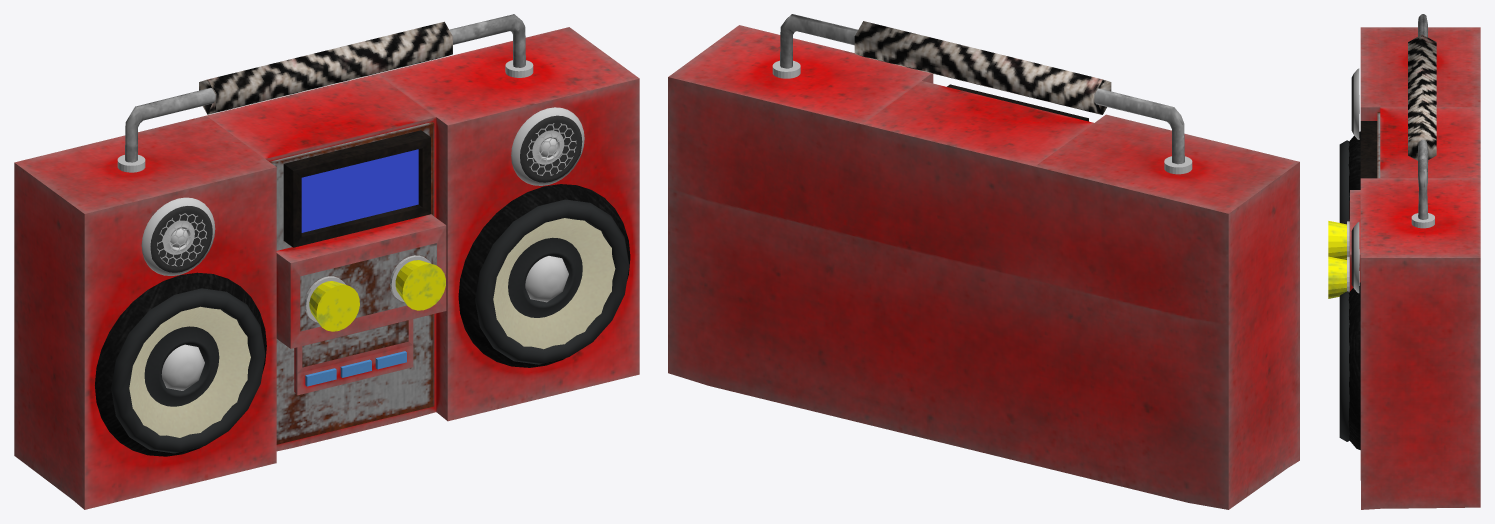
The model's file is RadioV2.fbx.
The picture shows the model from 3 angles, left to right: view 1: azimuth 30°, elevation 25°; view 2: azimuth 150°, elevation 25°; view 3: azimuth 270°, elevation 25°; orthographic projection. The views are drawn at different scales.
Parts seen in each view (by area): view 1: Boombox_low, SpeakerCone_low, SpeakerConePadding_low, ScreenSignal_low, KnobBox_low, MetallPlate_low, Handle_Padding_low, SpeakerTweeter_low, Handlebar_low, SpeakerConeCap_low, ButtonWheel_low_R, ButtonWheel_low_L (+4 smaller); view 2: Boombox_low, Handle_Padding_low, Handlebar_low, HandleBracket_low; view 3: Boombox_low, Handle_Padding_low, SpeakerCone_low, SpeakerConePadding_low, SpeakerTweeter_low, ScreenSignal_low, Handlebar_low, ButtonWheel_low_L, KnobBox_low, ButtonWheel_low_R, HandleBracket_low, MetallPlate_low (+1 smaller).
Boxes of the visible parts, <box> form: Boombox_low: <box>14,27,639,509</box>; SpeakerCone_low: <box>95,184,630,456</box>; SpeakerConePadding_low: <box>111,199,629,453</box>; ScreenSignal_low: <box>283,130,430,247</box>; KnobBox_low: <box>276,214,446,348</box>; MetallPlate_low: <box>269,122,434,444</box>; Handle_Padding_low: <box>199,21,452,114</box>; SpeakerTweeter_low: <box>141,107,584,275</box>; Handlebar_low: <box>125,14,525,162</box>; SpeakerConeCap_low: <box>161,256,568,390</box>; ButtonWheel_low_R: <box>309,281,359,331</box>; ButtonWheel_low_L: <box>395,260,445,310</box>; Boombox_low: <box>668,25,1299,509</box>; Handle_Padding_low: <box>854,21,1111,114</box>; Handlebar_low: <box>780,14,1184,164</box>; HandleBracket_low: <box>772,60,1192,174</box>; Boombox_low: <box>1360,27,1480,509</box>; Handle_Padding_low: <box>1408,34,1436,160</box>; SpeakerCone_low: <box>1348,131,1360,449</box>; SpeakerConePadding_low: <box>1339,140,1349,441</box>; SpeakerTweeter_low: <box>1351,68,1359,293</box>; ScreenSignal_low: <box>1360,121,1377,178</box>; Handlebar_low: <box>1418,14,1428,219</box>; ButtonWheel_low_L: <box>1328,256,1346,298</box>; KnobBox_low: <box>1349,190,1360,291</box>; ButtonWheel_low_R: <box>1328,221,1346,259</box>; HandleBracket_low: <box>1411,213,1434,228</box>; MetallPlate_low: <box>1377,112,1380,178</box>.
Bounding box in the file's own units: 93.65 × 58.88 × 26.17.
